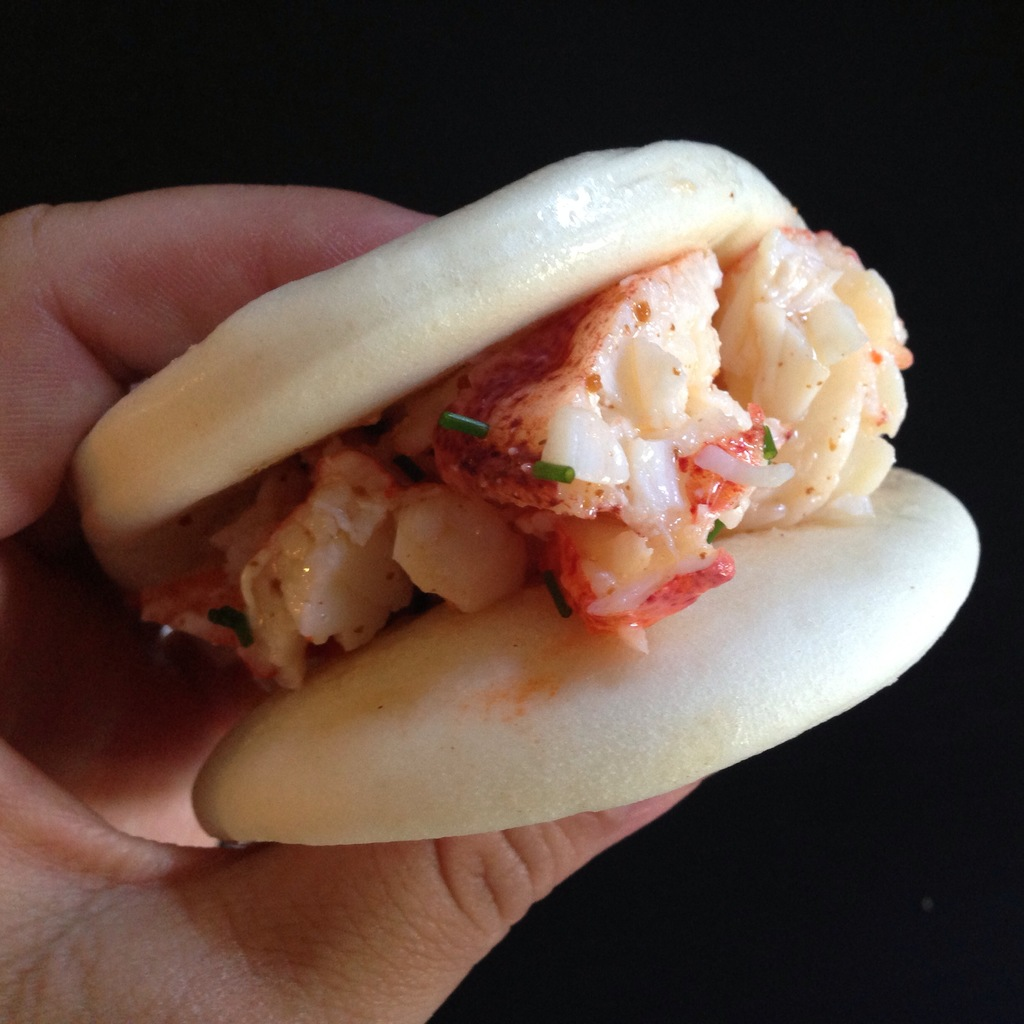sandwich: (66, 136, 986, 855)
